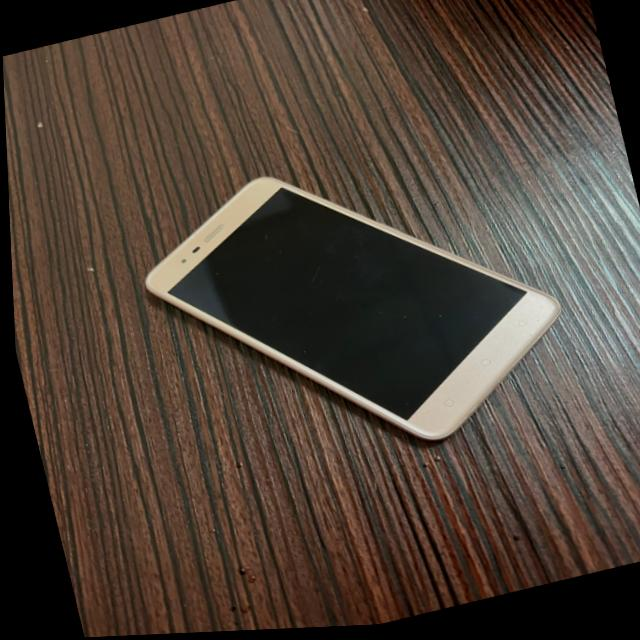Smartphone: (112, 161, 582, 471)
